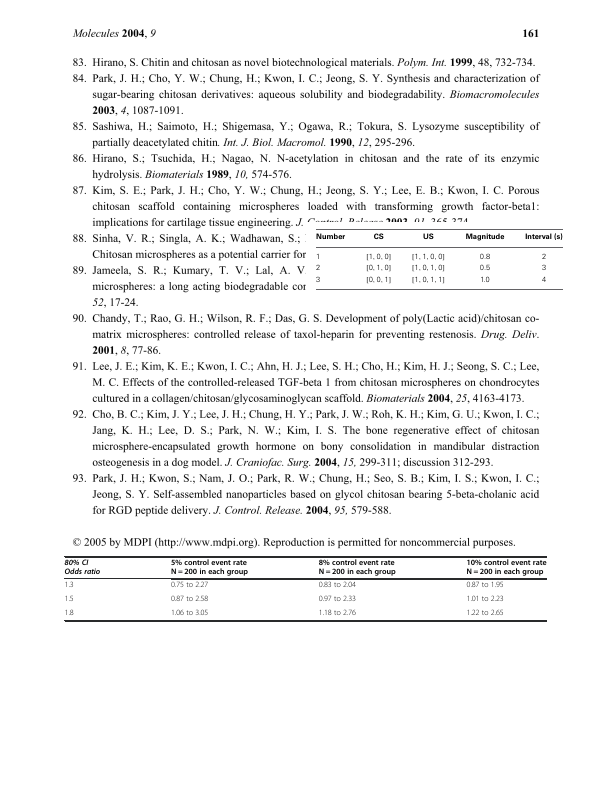borderless: (63, 555, 546, 620), (315, 227, 563, 289)
cell: (466, 559, 547, 577), (170, 559, 249, 577), (318, 559, 397, 577), (64, 559, 101, 576), (464, 233, 505, 242), (524, 233, 563, 242), (410, 252, 445, 261), (410, 275, 445, 284), (314, 233, 346, 242), (410, 264, 445, 272), (170, 582, 209, 589), (318, 582, 357, 589), (466, 582, 505, 589), (170, 596, 209, 603), (318, 596, 357, 603), (466, 596, 505, 603), (170, 610, 209, 617), (318, 610, 357, 617), (466, 610, 505, 617), (365, 252, 392, 261), (365, 275, 392, 284), (365, 264, 392, 272), (421, 233, 434, 242), (372, 233, 384, 242), (478, 252, 491, 260), (478, 264, 491, 271), (479, 275, 490, 283), (64, 582, 74, 589), (64, 596, 74, 603), (64, 610, 74, 617), (314, 252, 321, 260), (540, 252, 546, 260), (315, 275, 321, 283), (540, 275, 546, 283), (315, 264, 321, 271), (540, 264, 546, 271)
